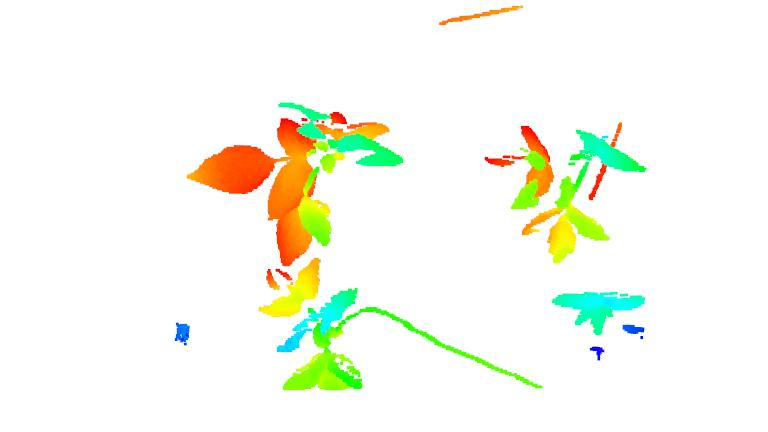mungbean: (192, 98, 408, 256), (503, 121, 651, 262), (255, 262, 378, 394), (554, 283, 651, 337)
